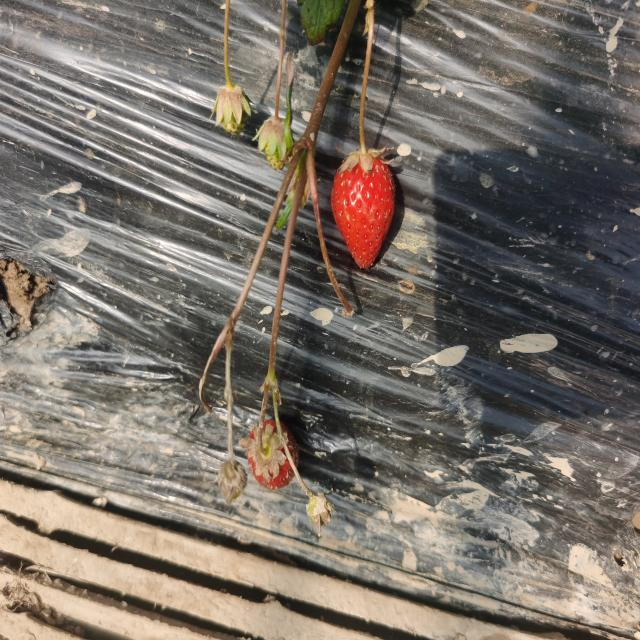stem: (258, 397, 269, 456), (359, 82, 367, 155)
strawberry: (331, 149, 396, 268), (247, 419, 295, 489), (280, 421, 299, 469)
